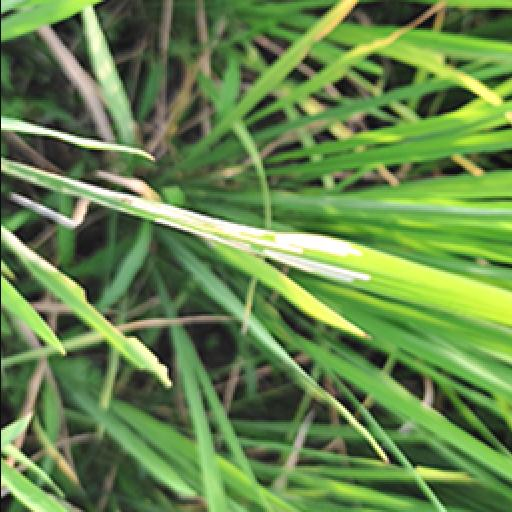Bacterial Leaf Blight: (98, 168, 378, 296), (82, 8, 126, 94)
